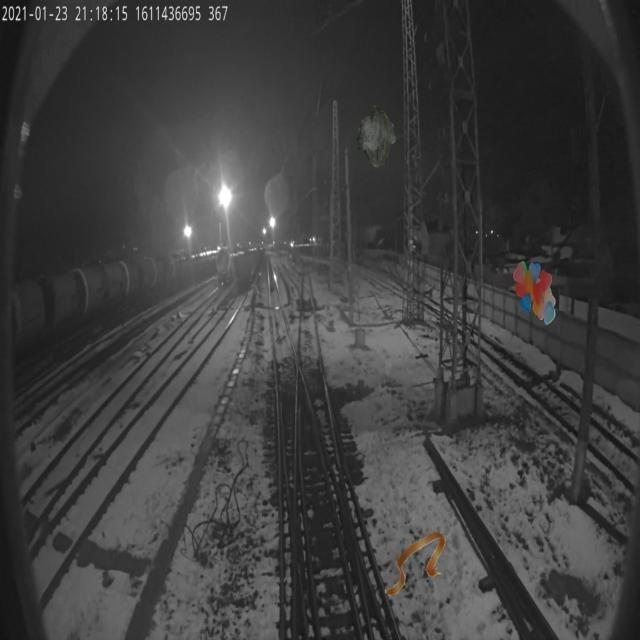balloon: (513, 260, 556, 324)
floating object: (385, 532, 446, 596)
plastic bag: (356, 104, 396, 168)
